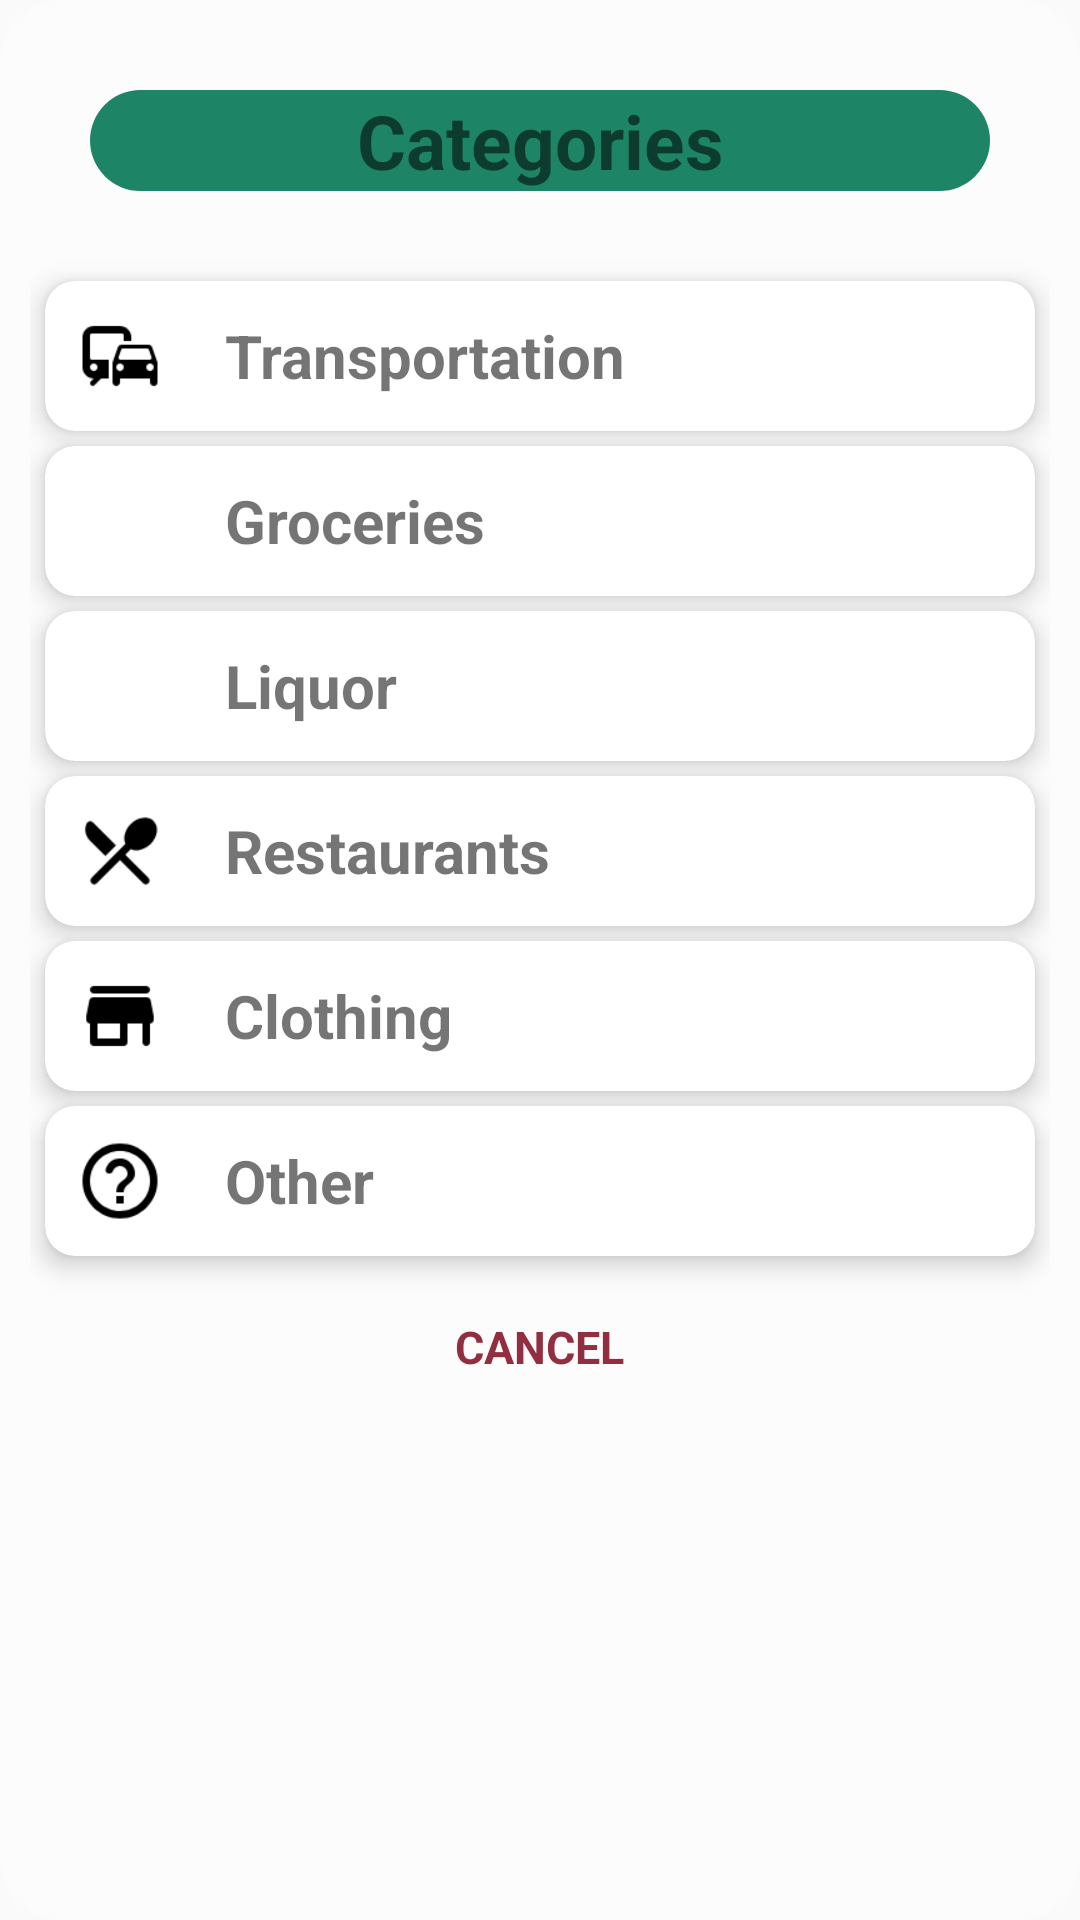

Point at icon controls on the screen. Image size 1080w x 1920h, points as point (x, y).
commute: point (120, 355)
help: point (120, 1181)
local dining: point (121, 851)
store mall directory: point (120, 1016)
